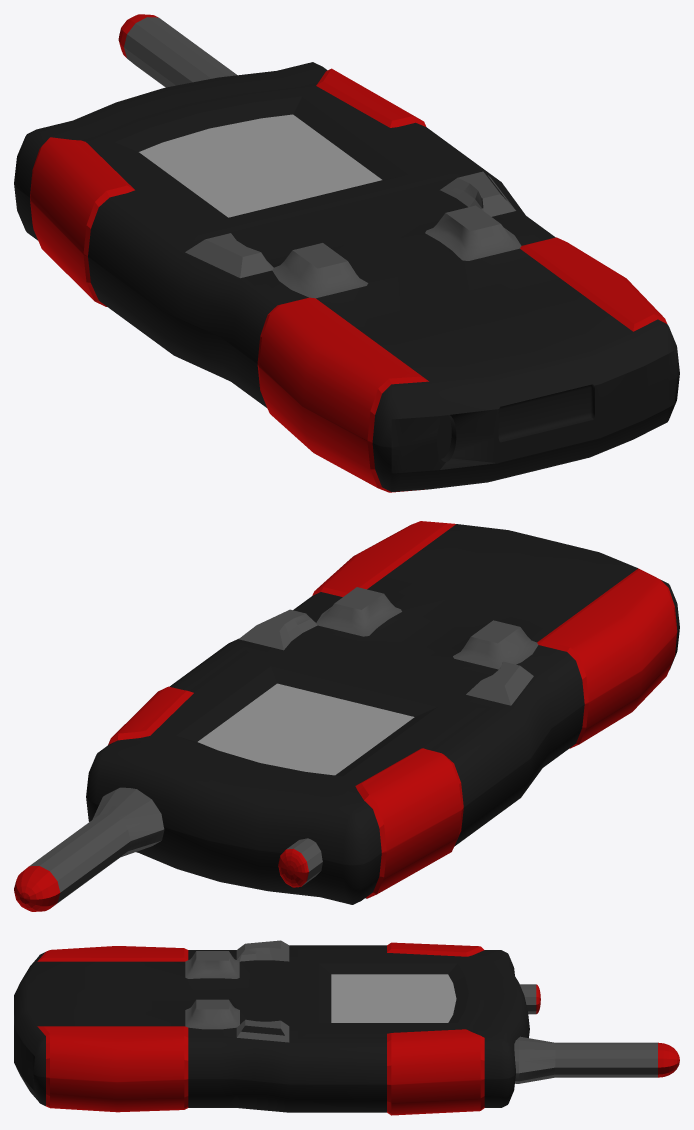
The model's file is 3ti6jnq4VAJ.glb.
3 renders of one model, top to bottom at view 1: azimuth 30°, elevation 25°; view 2: azimuth 150°, elevation 25°; view 3: azimuth 270°, elevation 25°, orthographic. The views are drawn at different scales.
Visible parts, largest first — view 1: ChamferBox001; view 2: ChamferBox001; view 3: ChamferBox001.
Boxes of the visible parts, box(x1,y1,x2,y2) form: ChamferBox001: box(14, 14, 679, 492); ChamferBox001: box(14, 521, 679, 911); ChamferBox001: box(14, 940, 679, 1115).
Bounding box in the file's own units: 2.76 × 1 × 6.94.
